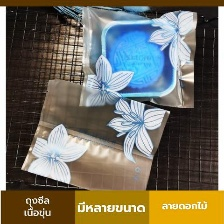snack: (15, 72, 175, 189), (73, 5, 203, 111)
